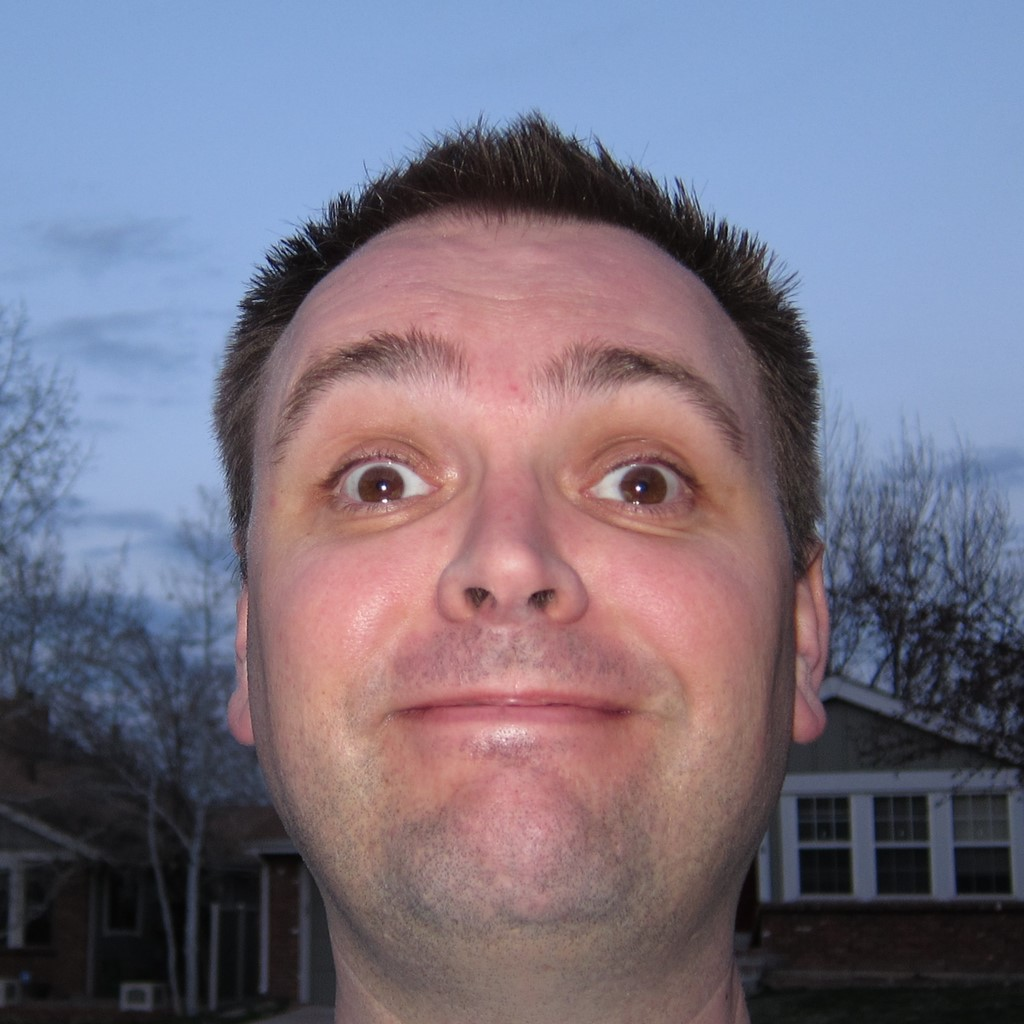sin_mascara: (218, 195, 835, 973)
